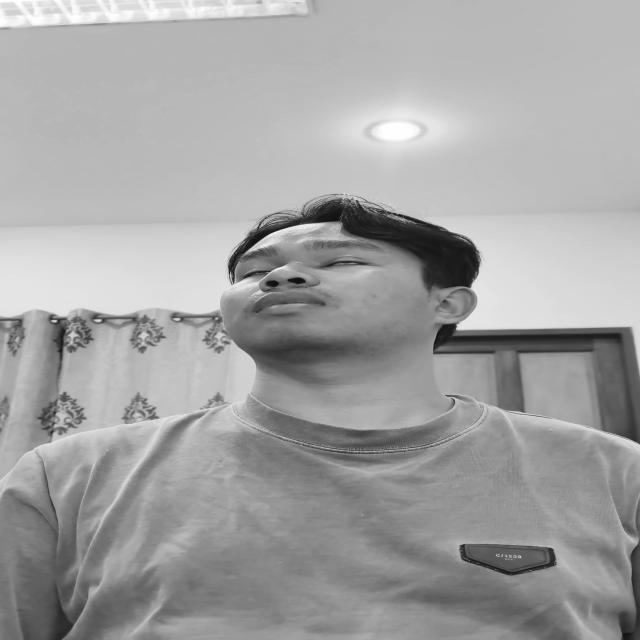ear: (432, 286, 477, 325)
